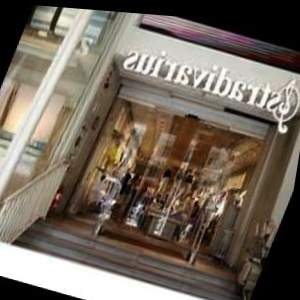stradivarius: (197, 28, 300, 55)
